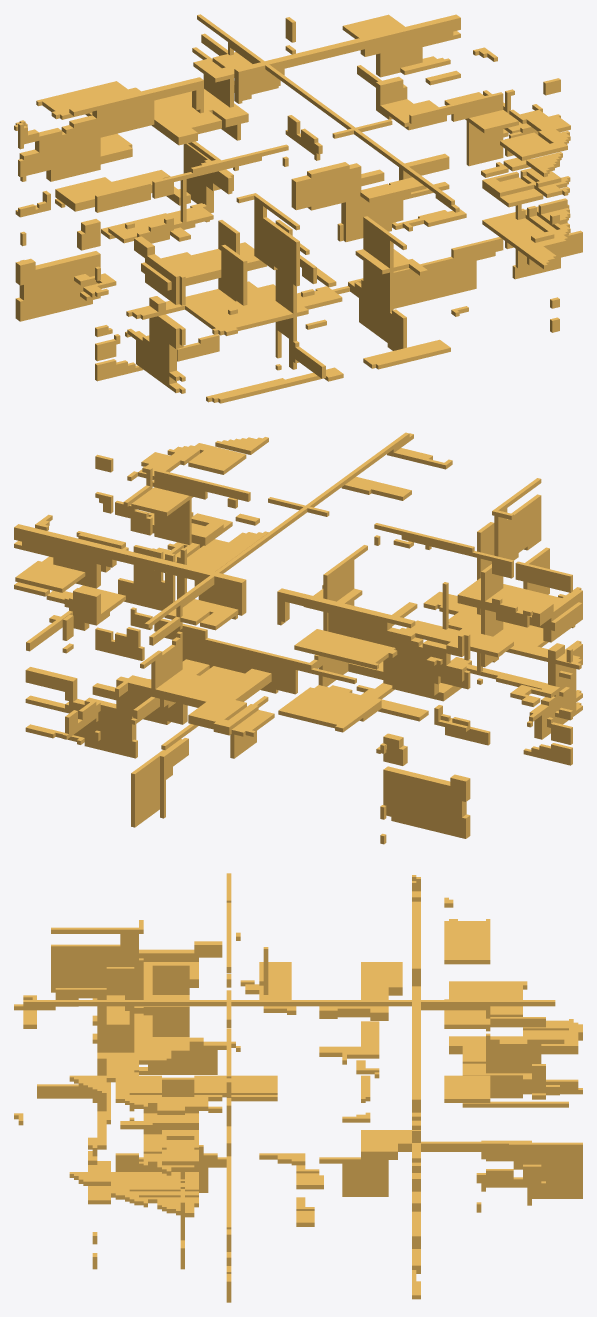
3 views of the same model, one above another, from view 1: azimuth 30°, elevation 25°; view 2: azimuth 150°, elevation 25°; view 3: azimuth 270°, elevation 25° (orthographic). The views are drawn at different scales.
Parts seen in each view (by area): view 1: 橙光; view 2: 橙光; view 3: 橙光.
Boxes of the visible parts, <box> form: 橙光: <box>14,14,582,403</box>; 橙光: <box>14,432,582,844</box>; 橙光: <box>14,873,582,1302</box>.
Bounding box in the file's own units: 124 × 49 × 123.
